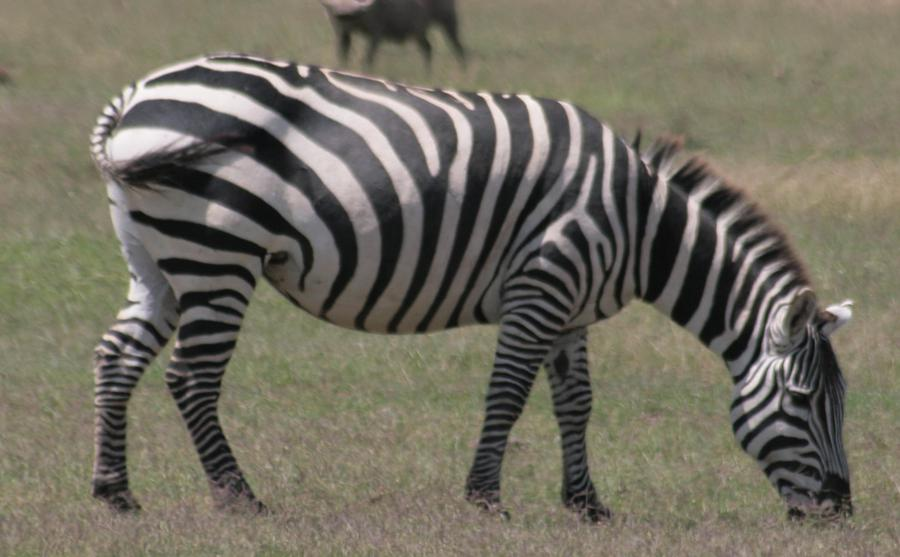zebra_plains: (127, 62, 631, 337)
